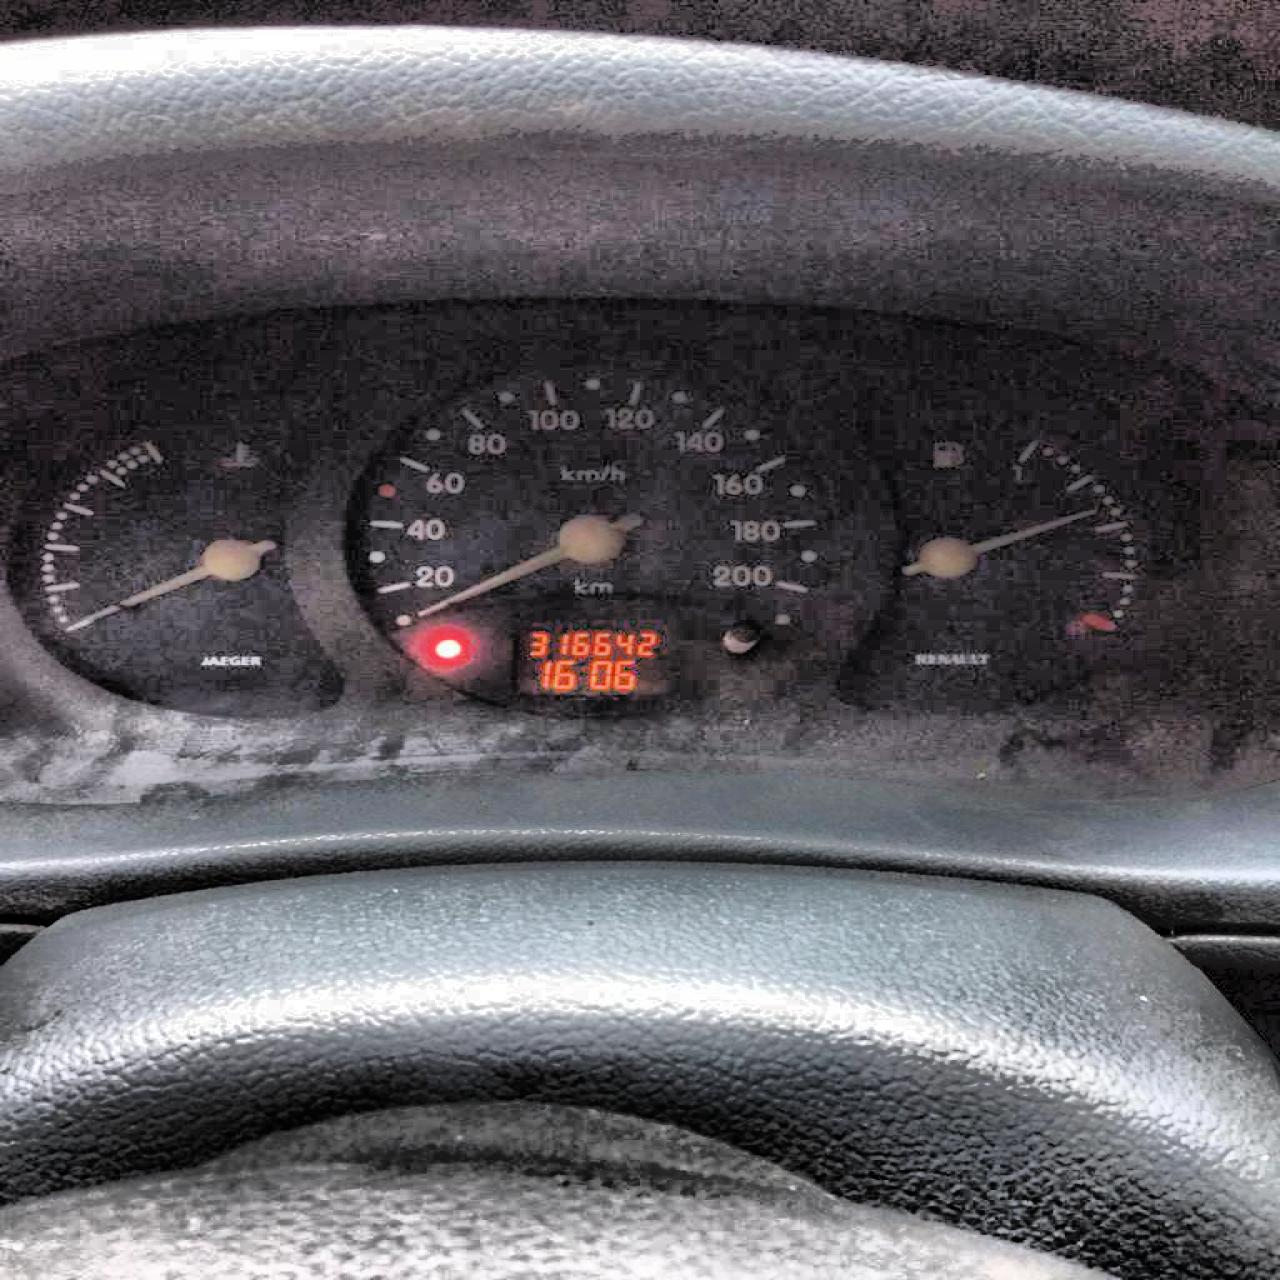0: (588, 659, 610, 689)
1: (539, 659, 549, 689), (558, 632, 568, 654)
2: (636, 633, 655, 655)
3: (529, 632, 546, 656)
4: (613, 633, 633, 654)
6: (552, 658, 573, 688), (613, 659, 633, 689), (570, 631, 588, 655), (592, 632, 608, 656)
odometer: (510, 622, 672, 696)
